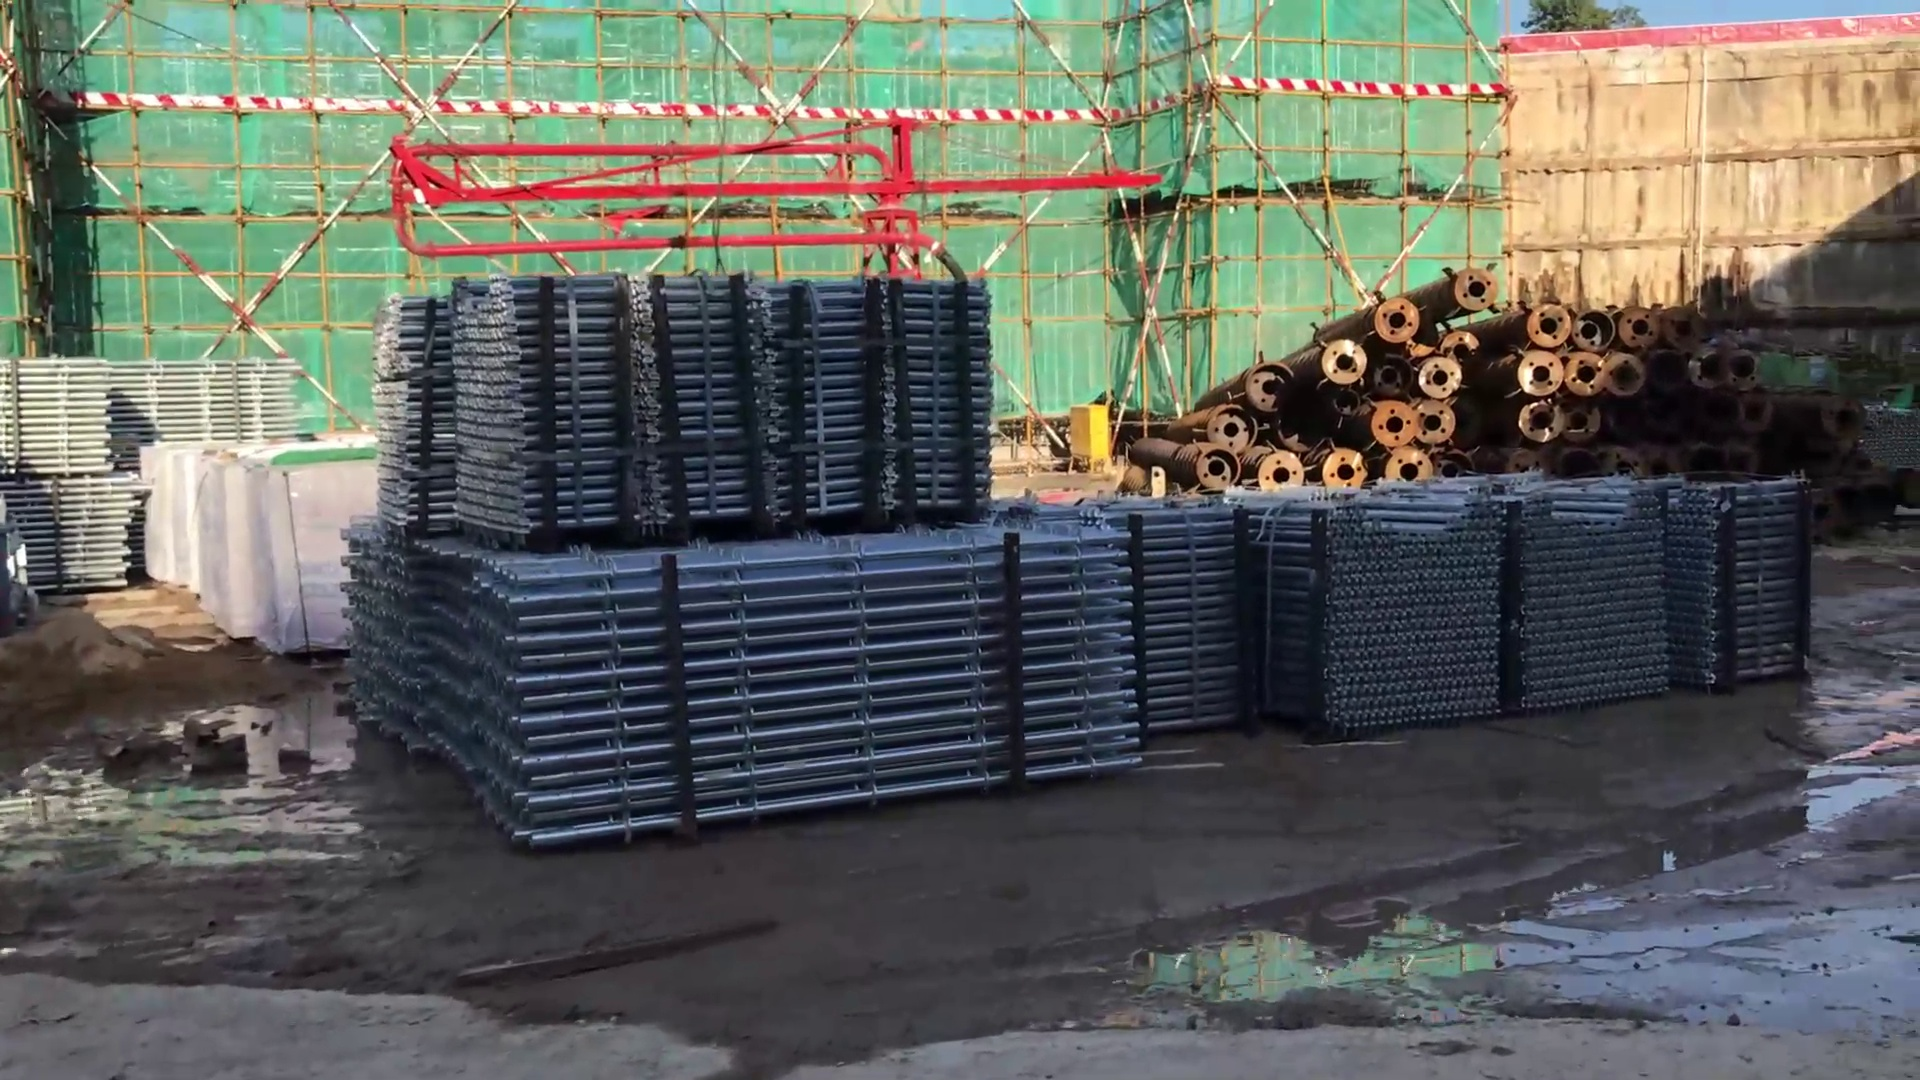ebox: (1047, 394, 1135, 476)
scaffold: (351, 527, 1175, 816), (381, 265, 992, 546), (1129, 464, 1516, 752), (1495, 463, 1685, 720), (1665, 460, 1826, 692), (7, 335, 152, 576), (111, 348, 326, 446)
